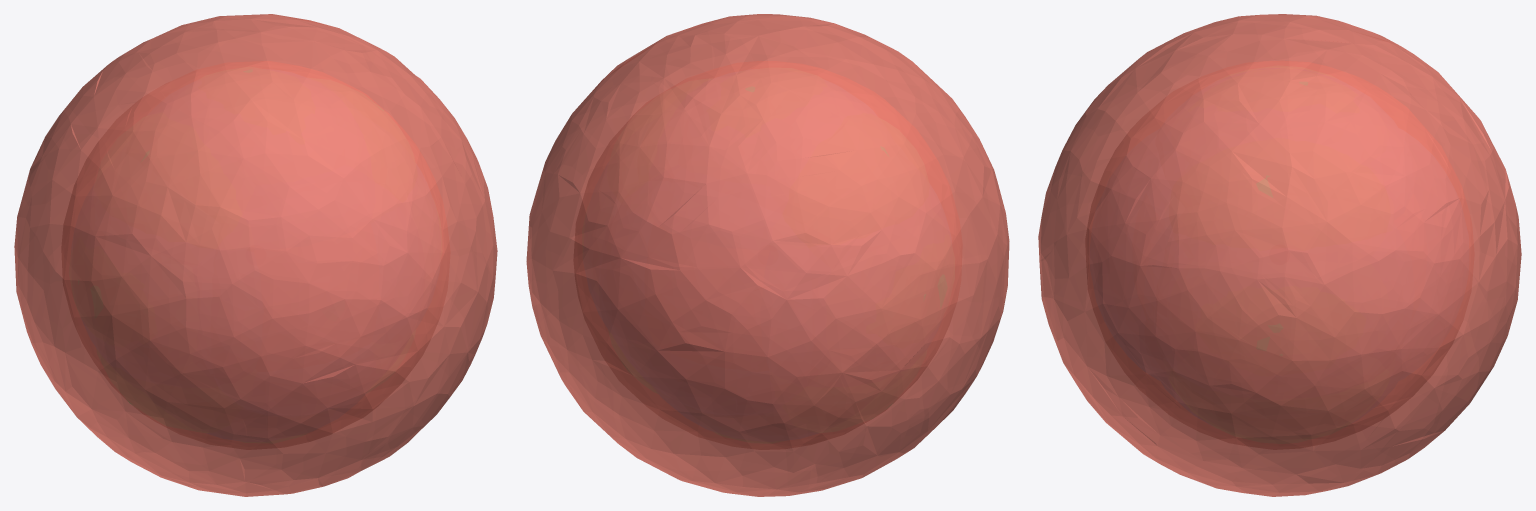
File: orbital.glb
3 renders of one model, left to right at view 1: azimuth 30°, elevation 25°; view 2: azimuth 150°, elevation 25°; view 3: azimuth 270°, elevation 25°, orthographic.
Visible parts, largest first — view 1: Zr_n5_s_ml0_node, Zr_n4_s_ml0_node; view 2: Zr_n5_s_ml0_node, Zr_n4_s_ml0_node; view 3: Zr_n5_s_ml0_node, Zr_n4_s_ml0_node.
Part boxes in pixels (<box>): Zr_n5_s_ml0_node: <box>14,14,497,496</box>; Zr_n4_s_ml0_node: <box>61,61,450,449</box>; Zr_n5_s_ml0_node: <box>526,14,1009,496</box>; Zr_n4_s_ml0_node: <box>573,61,962,449</box>; Zr_n5_s_ml0_node: <box>1038,14,1521,496</box>; Zr_n4_s_ml0_node: <box>1085,61,1474,449</box>.
Bounding box in the file's own units: 2.56 × 2.56 × 2.56.
